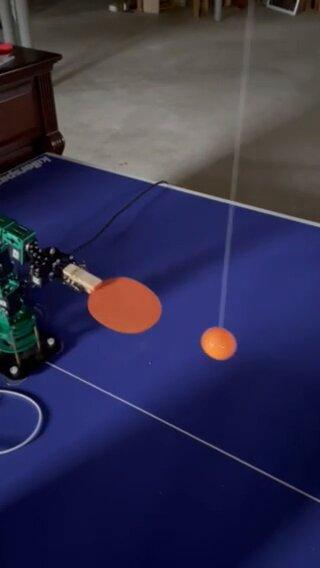oball: (201, 328, 236, 360)
